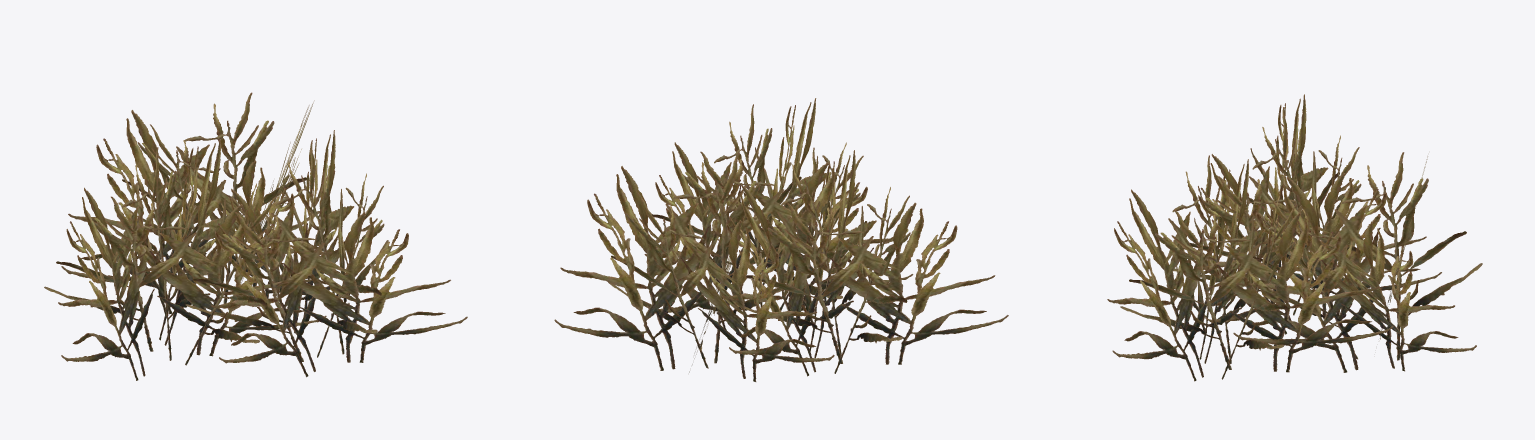
File: oas_tarim_dvweed_02.glb
3 renders of one model, left to right at view 1: azimuth 30°, elevation 25°; view 2: azimuth 150°, elevation 25°; view 3: azimuth 270°, elevation 25°, orthographic. The views are drawn at different scales.
Visible parts, largest first — view 1: Oas_tarim_DvWeed_02; view 2: Oas_tarim_DvWeed_02; view 3: Oas_tarim_DvWeed_02.
Part boxes in pixels (bbox=[...]): Oas_tarim_DvWeed_02: bbox=[44, 92, 467, 380]; Oas_tarim_DvWeed_02: bbox=[554, 98, 1008, 381]; Oas_tarim_DvWeed_02: bbox=[1107, 94, 1482, 381].
Size of the model in its own units: 8.8 by 4.78 by 8.71.
1 material, 1 textured.
